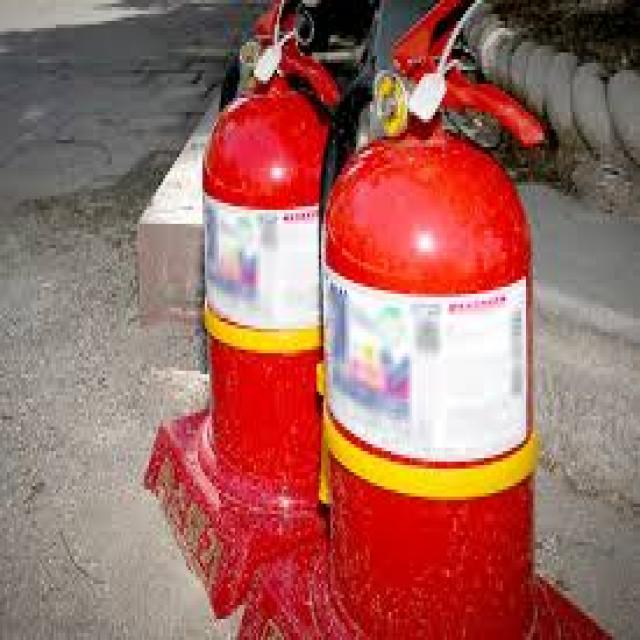pressure gauge: (372, 66, 405, 133), (375, 70, 405, 136)
